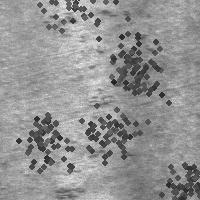rolled-in_scale: (0, 88, 103, 200), (42, 10, 155, 107), (86, 20, 184, 118), (10, 0, 130, 60), (69, 94, 143, 168), (53, 145, 134, 200), (148, 144, 200, 200), (19, 104, 71, 156)
